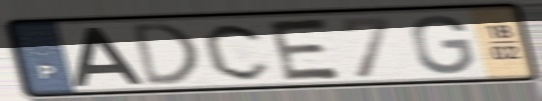7: (336, 14, 398, 80)
A: (70, 25, 148, 88)
C: (201, 21, 275, 83)
D: (128, 19, 202, 89)
E: (265, 16, 347, 83)
G: (408, 12, 477, 76)
